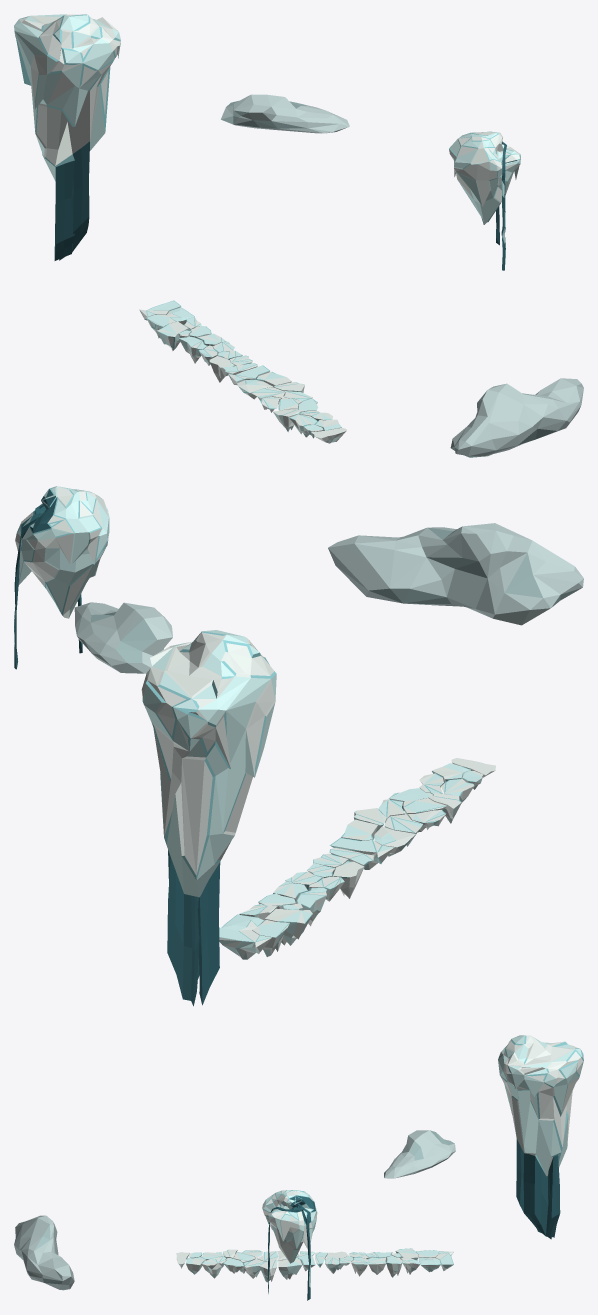
File: ice.fbx
3 renders of one model, top to bottom at view 1: azimuth 30°, elevation 25°; view 2: azimuth 150°, elevation 25°; view 3: azimuth 270°, elevation 25°, orthographic. The views are drawn at different scales.
Visible parts, largest first — view 1: IslaFlotanteHielo03, Nube02, IslaFlotanteHielo01, Nube01; view 2: IslaFlotanteHielo03, Nube02, IslaFlotanteHielo01, Nube01, Cubo.019, Cubo.022, Cubo.034, Cubo.021, Cubo.036, Cubo.030; view 3: IslaFlotanteHielo03, IslaFlotanteHielo01, Nube02, Nube01, Cubo.035.
Boxes of the visible parts, x1,y1,x2,y2 form: IslaFlotanteHielo03: [14, 14, 120, 260]; Nube02: [450, 378, 583, 457]; IslaFlotanteHielo01: [449, 131, 520, 270]; Nube01: [221, 94, 349, 133]; IslaFlotanteHielo03: [141, 630, 276, 1006]; Nube02: [328, 523, 583, 625]; IslaFlotanteHielo01: [14, 486, 109, 669]; Nube01: [74, 602, 172, 673]; Cubo.019: [219, 927, 272, 959]; Cubo.022: [265, 908, 312, 945]; Cubo.034: [330, 837, 394, 869]; Cubo.021: [252, 920, 289, 956]; Cubo.036: [374, 826, 415, 856]; Cubo.030: [333, 861, 364, 898]; IslaFlotanteHielo03: [498, 1035, 583, 1239]; IslaFlotanteHielo01: [262, 1190, 317, 1300]; Nube02: [14, 1215, 74, 1290]; Nube01: [384, 1130, 455, 1178]; Cubo.035: [278, 1258, 302, 1279].
Bounding box in the file's own units: 1767 × 1495 × 3446.
